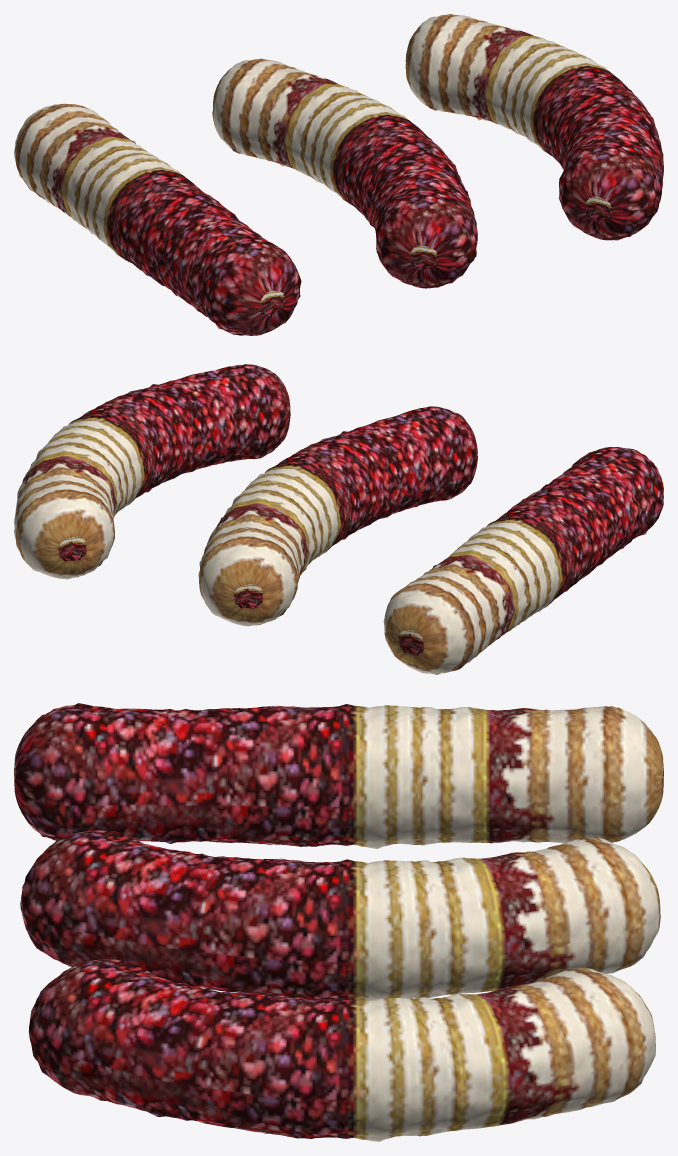
The model's file is Grilled+Bratwurst.dae.
3 renders of one model, top to bottom at view 1: azimuth 30°, elevation 25°; view 2: azimuth 150°, elevation 25°; view 3: azimuth 270°, elevation 25°, orthographic. The views are drawn at different scales.
Parts seen in each view (by area): view 1: Sausage_straight, Sausage_Bent, Sausage_Bent_Slight; view 2: Sausage_Bent, Sausage_Bent_Slight, Sausage_straight; view 3: Sausage_straight, Sausage_Bent, Sausage_Bent_Slight.
Boxes of the visible parts, x1=… form: Sausage_straight: x1=14, y1=103, x2=301, y2=335; Sausage_Bent: x1=405, y1=14, x2=663, y2=240; Sausage_Bent_Slight: x1=212, y1=58, x2=477, y2=288; Sausage_Bent: x1=14, y1=364, x2=290, y2=579; Sausage_Bent_Slight: x1=198, y1=406, x2=477, y2=626; Sausage_straight: x1=383, y1=447, x2=663, y2=674; Sausage_straight: x1=14, y1=703, x2=663, y2=848; Sausage_Bent: x1=28, y1=959, x2=655, y2=1141; Sausage_Bent_Slight: x1=20, y1=830, x2=660, y2=1000.
Size of the model in its own units: 7.11 by 5.5 by 1.21.
